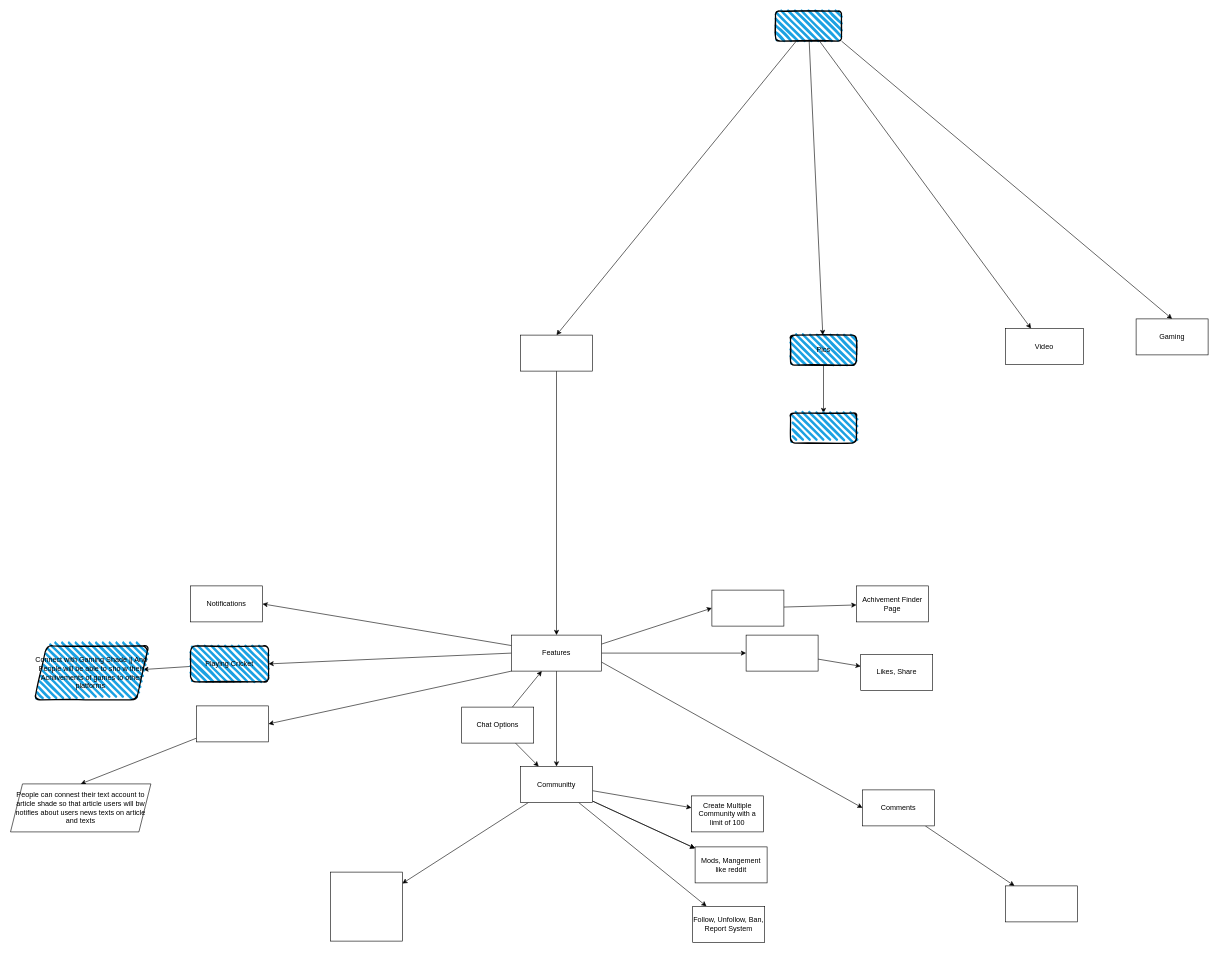
Some shapes in this 1219 by 953 pixel diagram are drawn without their labels. The centre of each missing label's shape, as x and y in pixels:
Article Shade: [556,352]
Community can be synked (with a common username) across all shade platforms: [366,906]
Engagement Features: [782,652]
Image Hosting: [823,427]
Publish POST/Tweets: [232,723]
Shade: [808,25]
Show Achivements: [747,608]
Utterences Comment System (Have to design Utterences UI): [1041,903]
